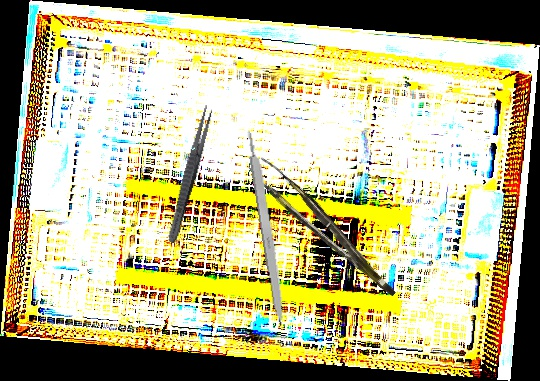Dressing Forceps: (164, 103, 216, 245)
Scalpel Handle: (244, 127, 290, 328)
Tissue Forceps: (247, 147, 397, 313)
